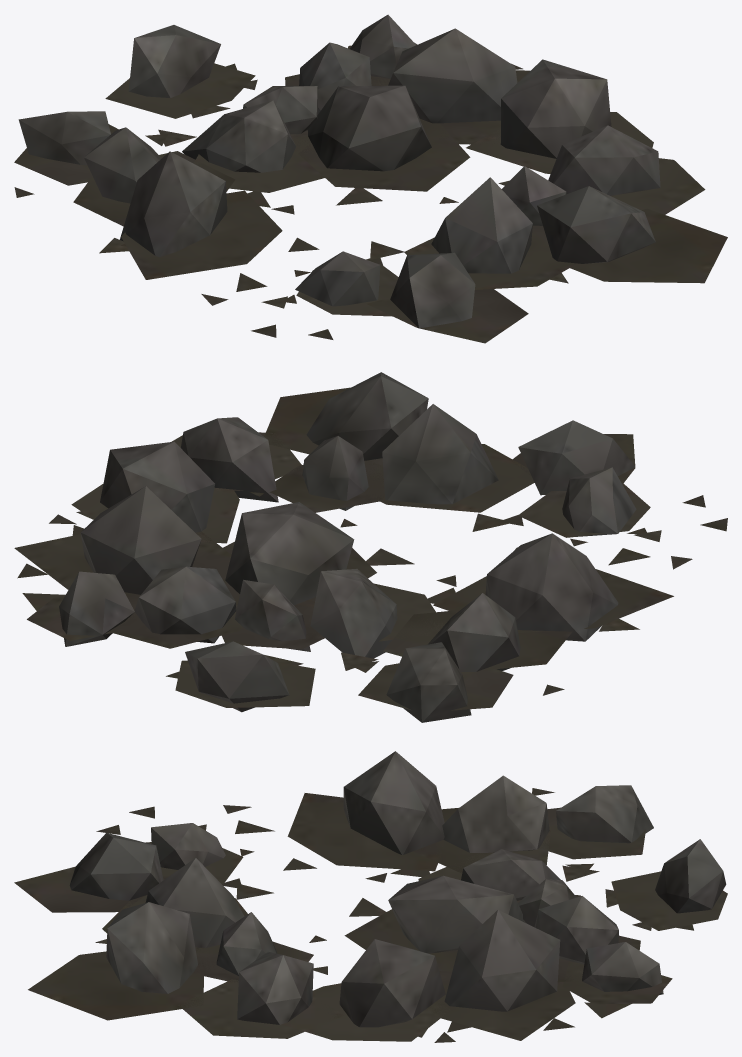
Rendered from coal-rich.glb.
3 renders of one model, top to bottom at view 1: azimuth 30°, elevation 25°; view 2: azimuth 150°, elevation 25°; view 3: azimuth 270°, elevation 25°, orthographic. The views are drawn at different scales.
Visible parts, largest first — view 1: coal-rich; view 2: coal-rich; view 3: coal-rich.
Part boxes in pixels (box(x1,y1,x2,y2)): coal-rich: box(14, 14, 727, 343); coal-rich: box(14, 372, 727, 722); coal-rich: box(14, 751, 727, 1042).
Size of the model in its own units: 1.36 by 0.2296 by 1.61.
Materials: 1 (1 with a texture image).
